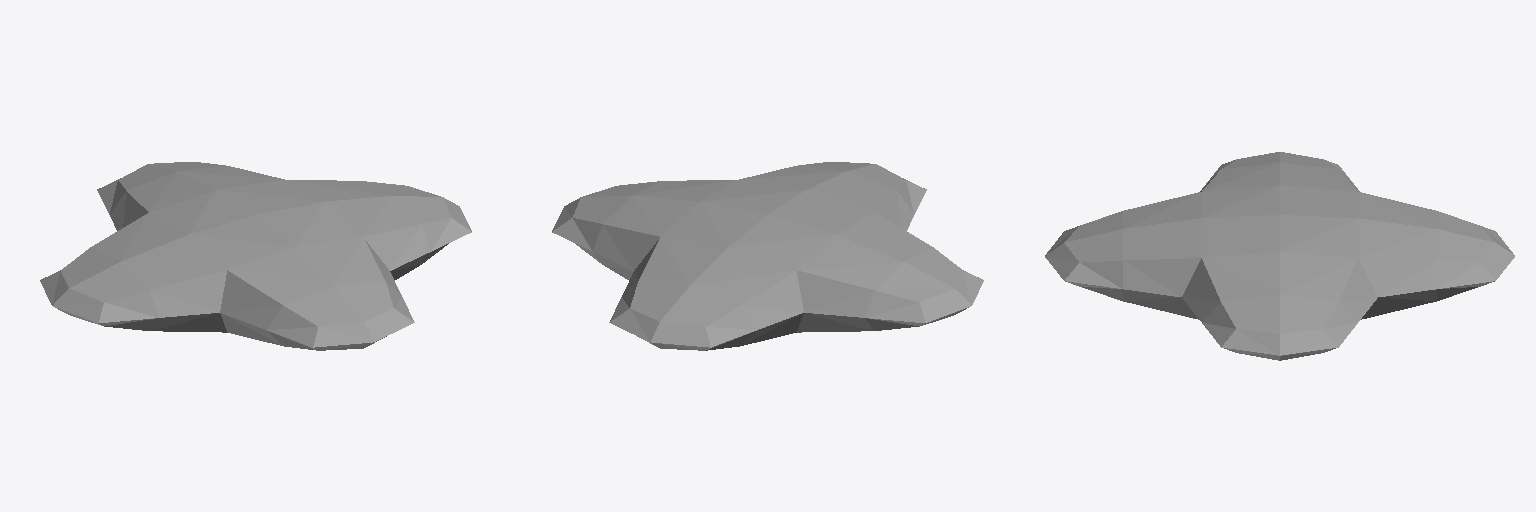
Rendered from medpack.obj.
3 views of the same model, side by side, from view 1: azimuth 30°, elevation 25°; view 2: azimuth 150°, elevation 25°; view 3: azimuth 270°, elevation 25° (orthographic).
Bounding box in the file's own units: 1 × 0.1935 × 1.